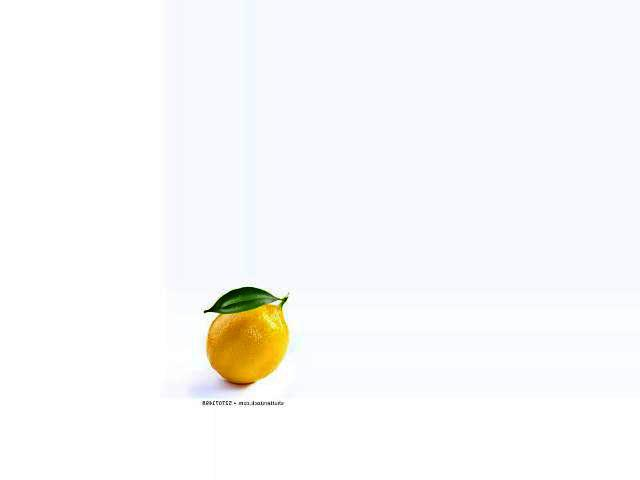lemon: (197, 291, 294, 396)
